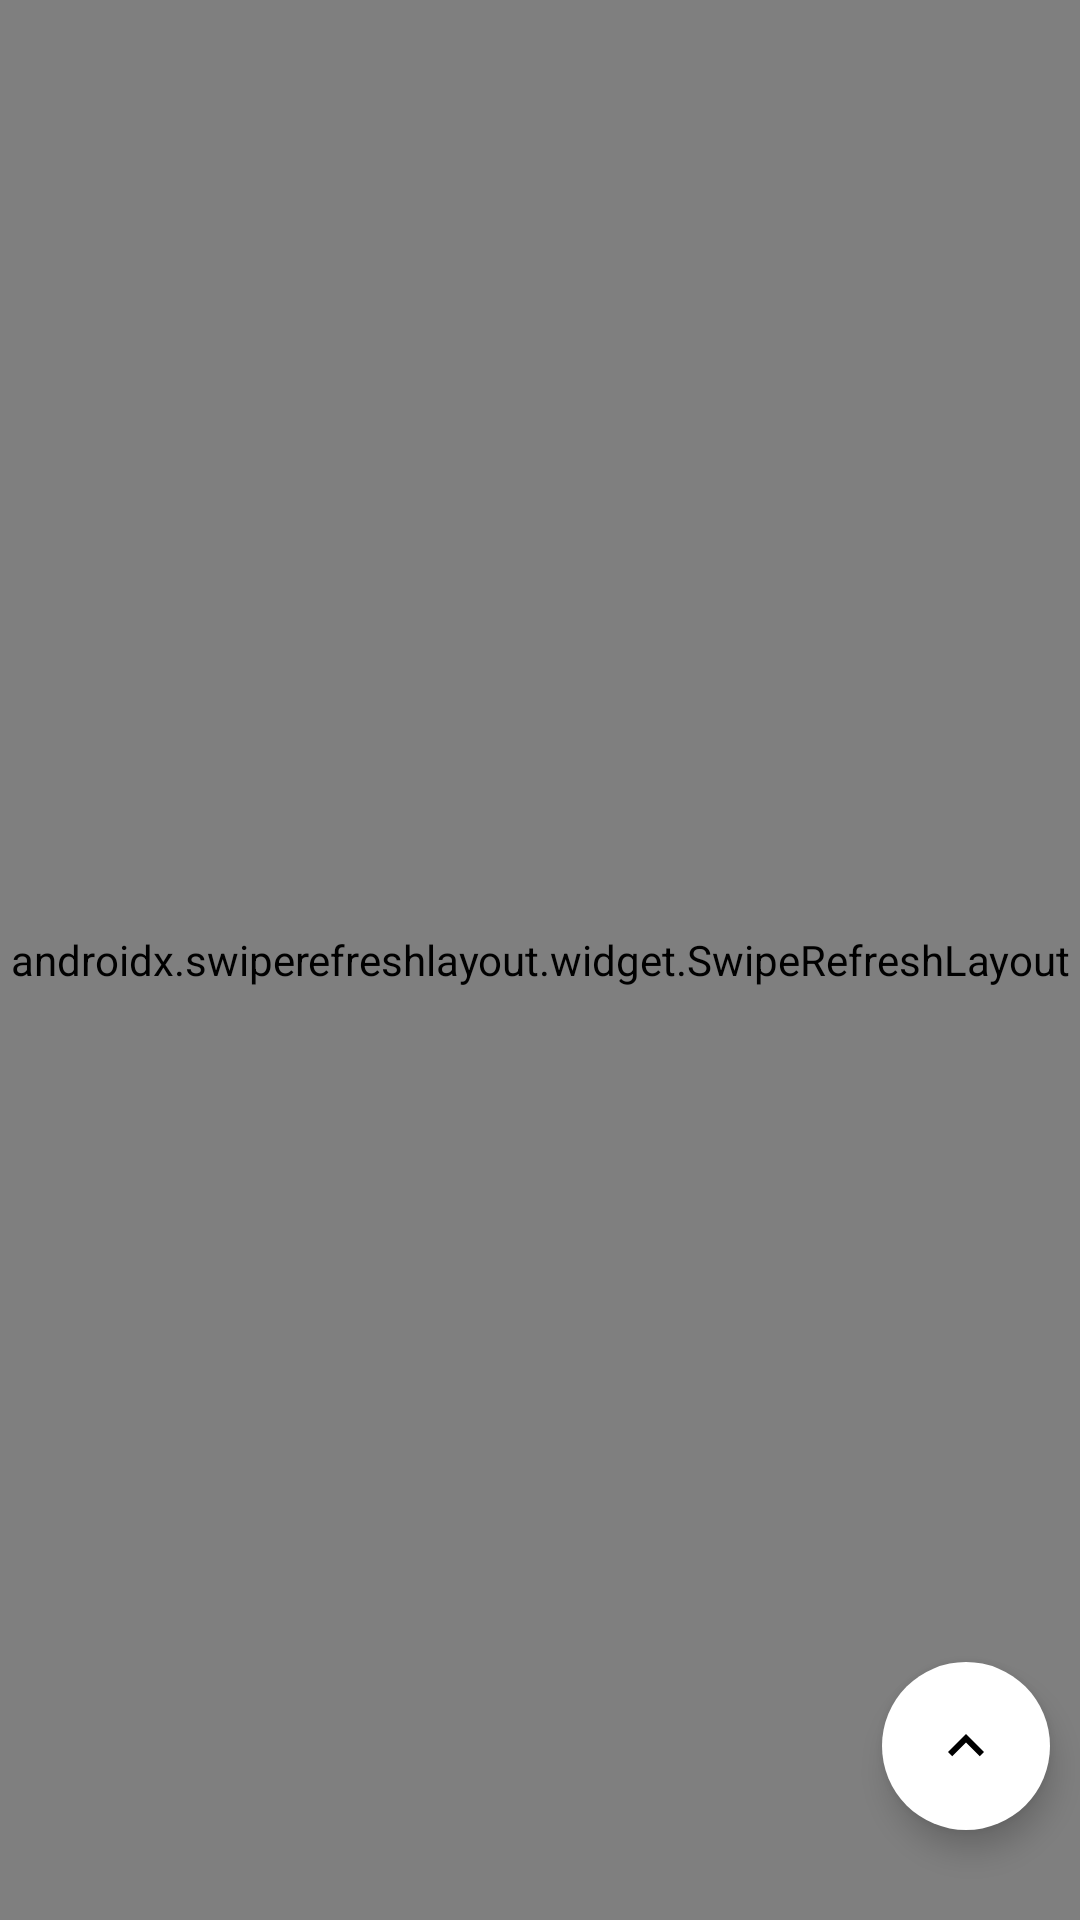

Screen size 1080px×1920px. Icon name, then its box in pixels as (x1, y1, x2, y2):
keyboard arrow up: (882, 1662, 1050, 1830)
